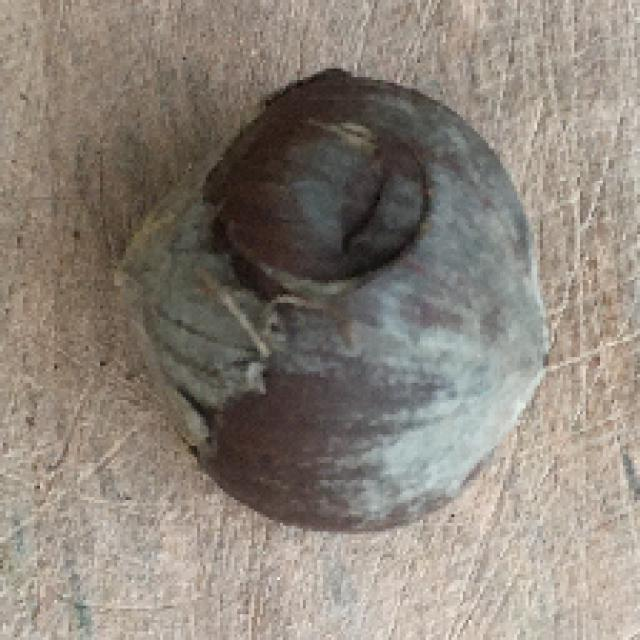damagedHazelnut: (121, 71, 554, 536)
